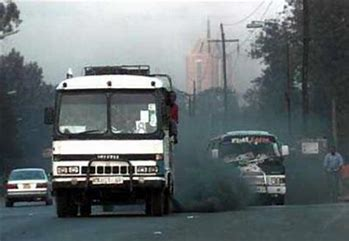smoke: (170, 145, 266, 217)
